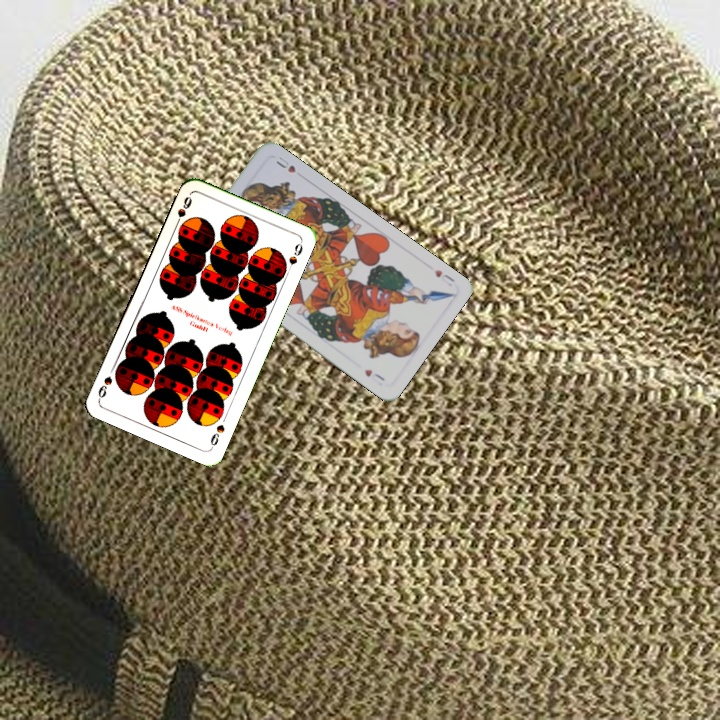HU: (430, 265, 457, 285)
S9: (171, 192, 194, 230), (206, 420, 227, 451)
